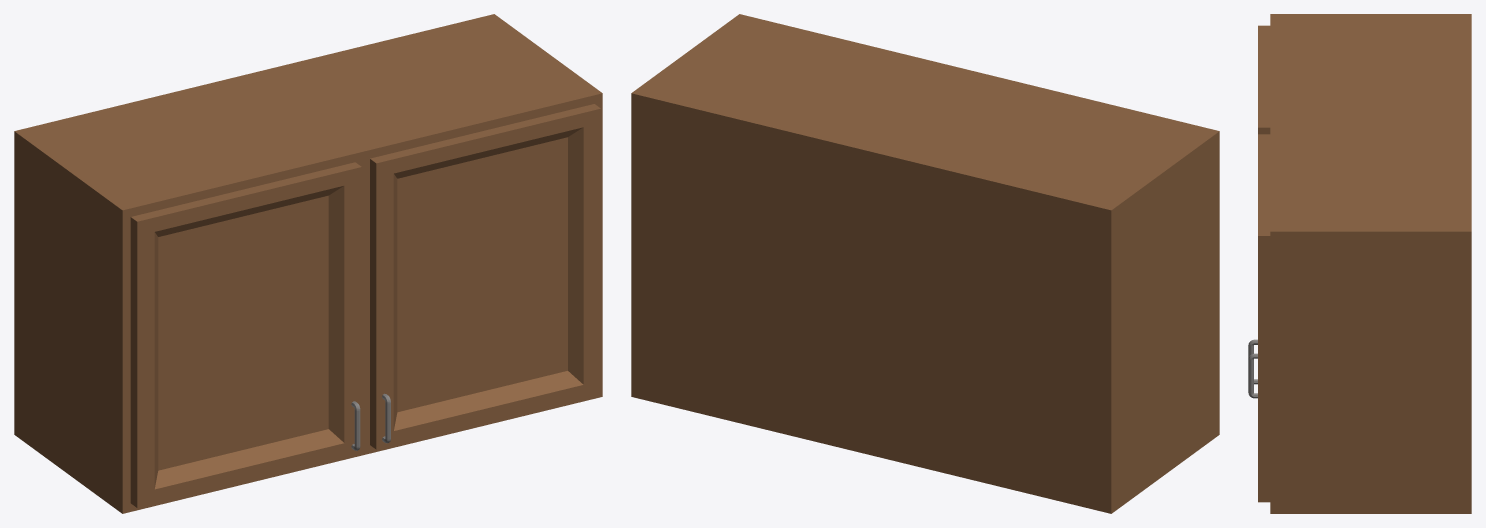
File: Kitchen Tabletop_17.fbx
The picture shows the model from 3 angles, left to right: view 1: azimuth 30°, elevation 25°; view 2: azimuth 150°, elevation 25°; view 3: azimuth 270°, elevation 25°; orthographic projection. The views are drawn at different scales.
Parts seen in each view (by area): view 1: Kitchen Tabletop_17; view 2: Kitchen Tabletop_17; view 3: Kitchen Tabletop_17.
Boxes of the visible parts, <box> form: Kitchen Tabletop_17: <box>14,14,602,513</box>; Kitchen Tabletop_17: <box>631,14,1219,513</box>; Kitchen Tabletop_17: <box>1248,14,1471,513</box>.
Size of the model in its own units: 99.38 by 60.04 by 43.01.
